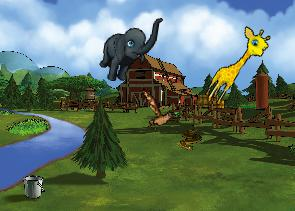eagle: (129, 87, 186, 138)
elephant: (97, 10, 163, 87)
giraffe: (201, 21, 274, 113)
